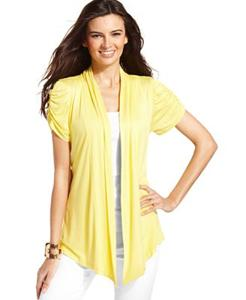S_cardigan sweater: (44, 72, 183, 279)
